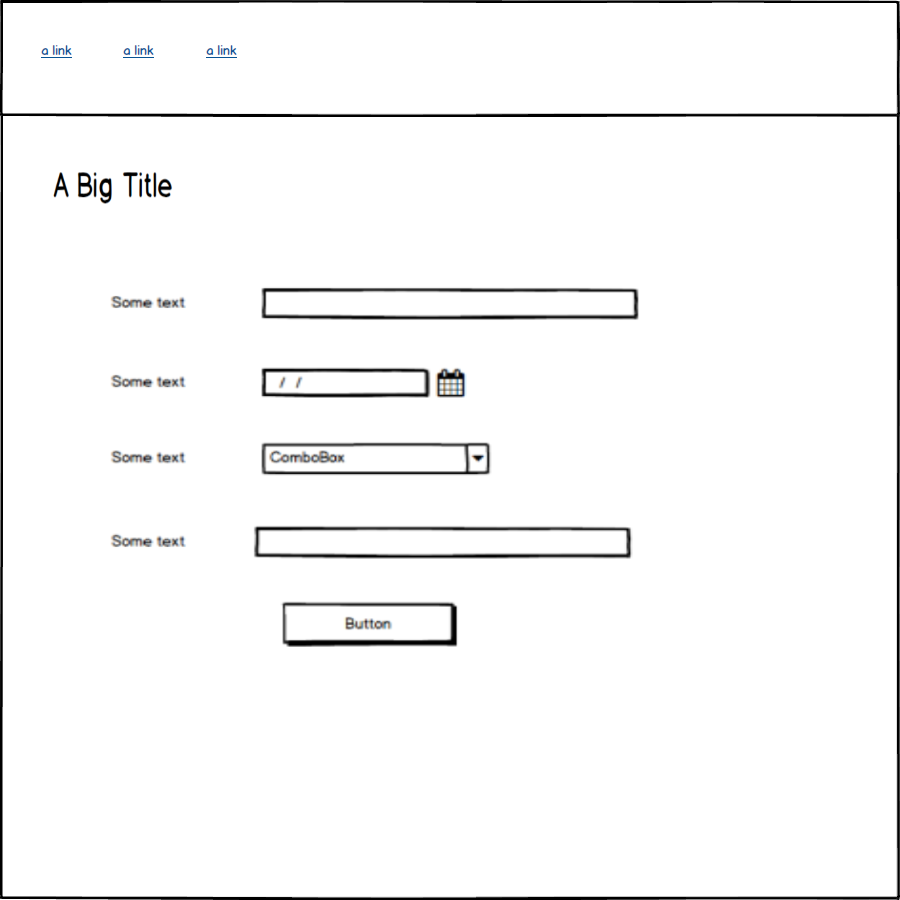button: (279, 599, 461, 651)
date_picker: (256, 363, 472, 404)
h1: (35, 164, 189, 206), (98, 366, 186, 395), (108, 528, 196, 552), (109, 447, 197, 467)
input: (261, 278, 639, 322), (250, 521, 644, 563)
label: (101, 289, 192, 318)
navlink: (31, 34, 78, 64), (113, 41, 170, 64), (200, 38, 248, 64)
select_box: (257, 440, 498, 480)
